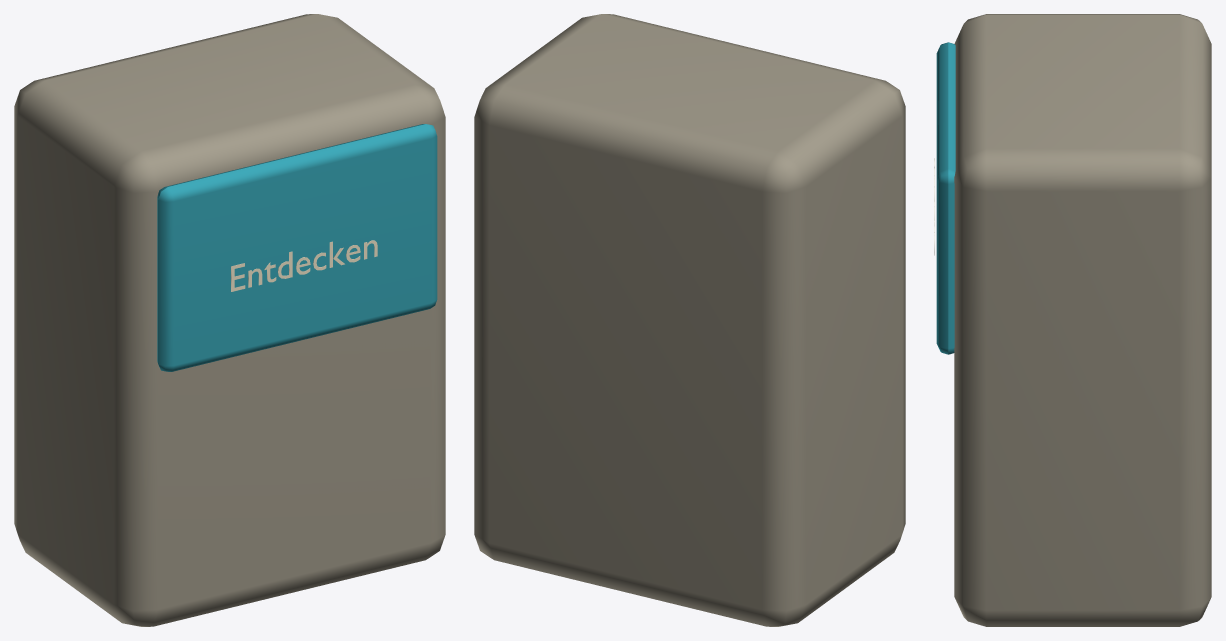
The model's file is SM_Puzzle_Station.fbx.
3 views of the same model, side by side, from view 1: azimuth 30°, elevation 25°; view 2: azimuth 150°, elevation 25°; view 3: azimuth 270°, elevation 25° (orthographic).
Parts seen in each view (by area): view 1: Station_base, Station_panel, Station_hint; view 2: Station_base; view 3: Station_base, Station_panel.
Part boxes in pixels (box(x1,y1,x2,y2)): Station_base: box(14, 14, 445, 626); Station_panel: box(157, 124, 437, 371); Station_hint: box(231, 240, 377, 291); Station_base: box(474, 14, 905, 626); Station_base: box(954, 14, 1211, 626); Station_panel: box(936, 42, 955, 354).
Size of what is drawn, in the model's own units: 65 by 47.44 by 90.
